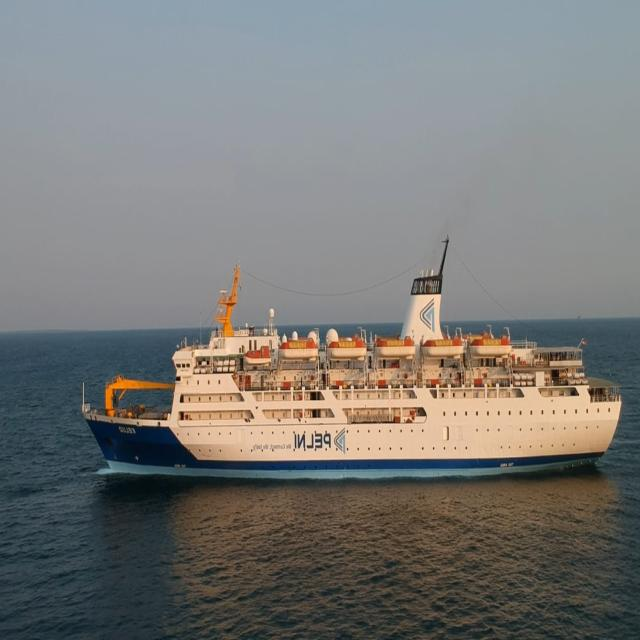PassengerShip: (79, 226, 636, 519)
